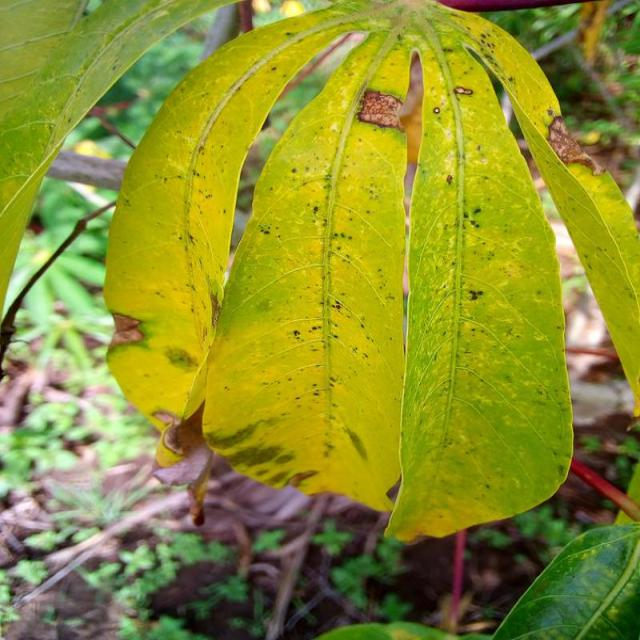cassava leaf: (101, 0, 636, 542), (382, 12, 574, 543)
